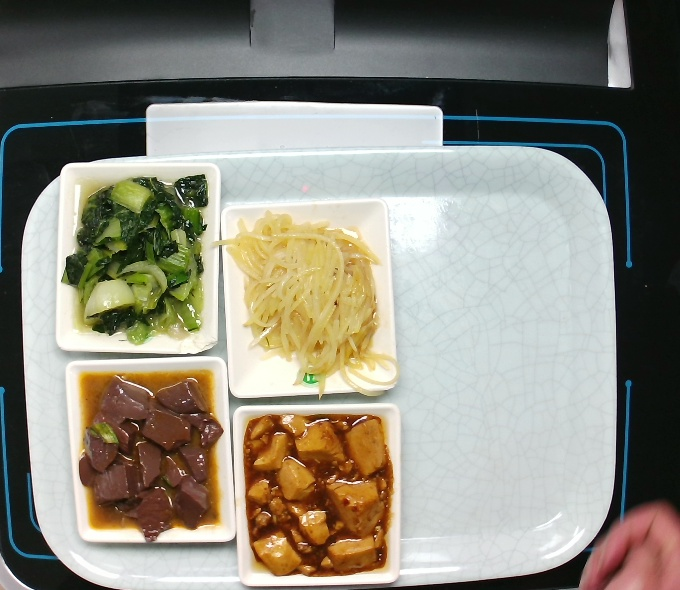wcq-MaPoDouFu: (240, 414, 393, 584)
wcq-NiuXue: (69, 369, 235, 526)
wcq-TuDouSi: (219, 208, 384, 379)
wcq-YouDongCai: (64, 173, 210, 336)
